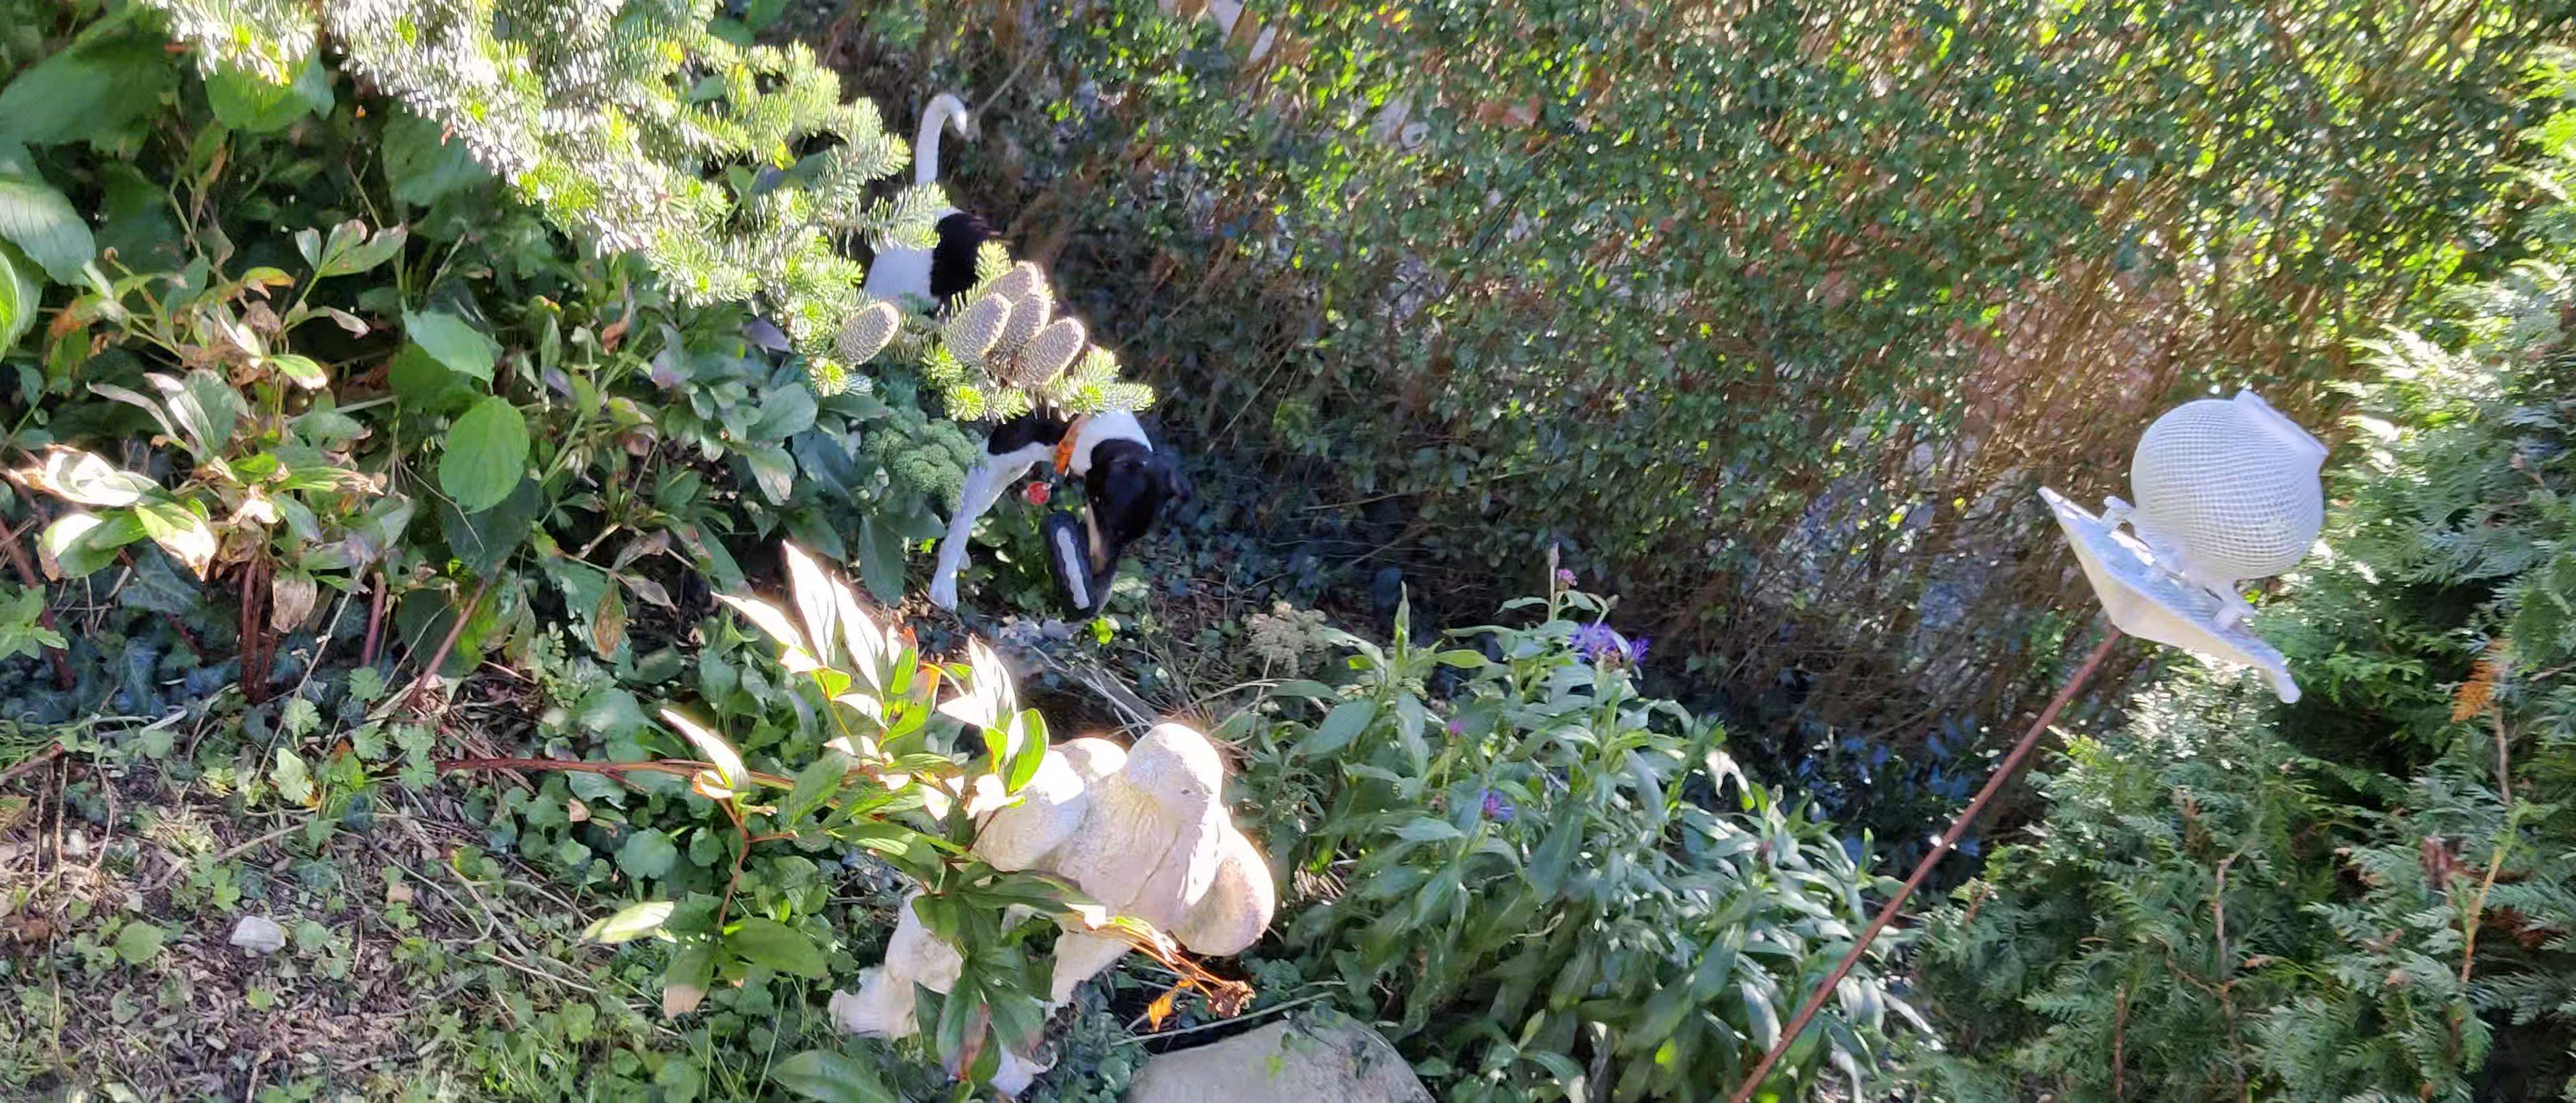Dog: (853, 87, 1194, 615)
